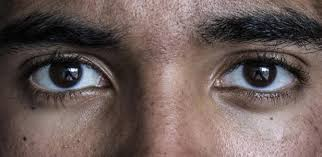pupil: (243, 61, 278, 88), (49, 62, 82, 88)
